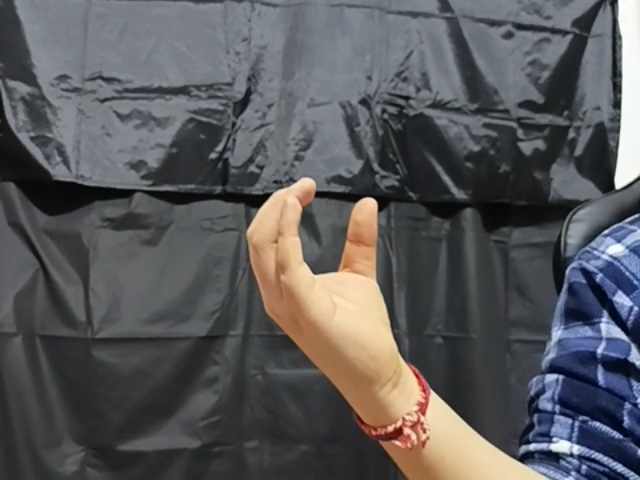C: (243, 176, 413, 367)
